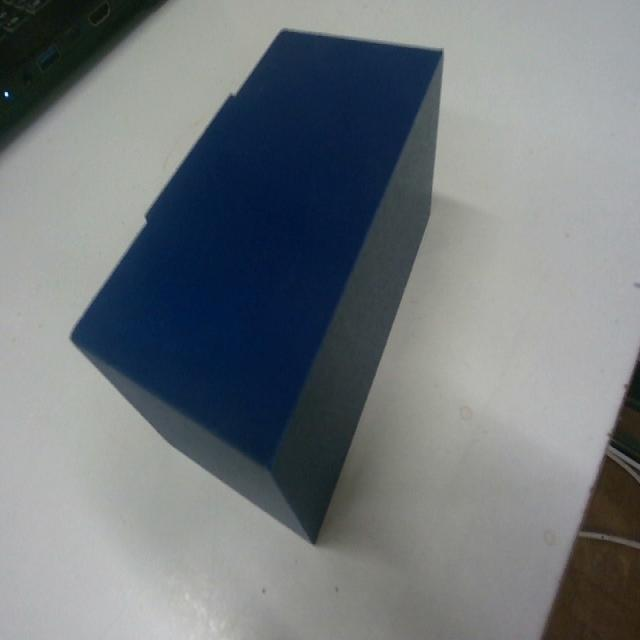Blue Cuboid: (68, 24, 445, 544)
